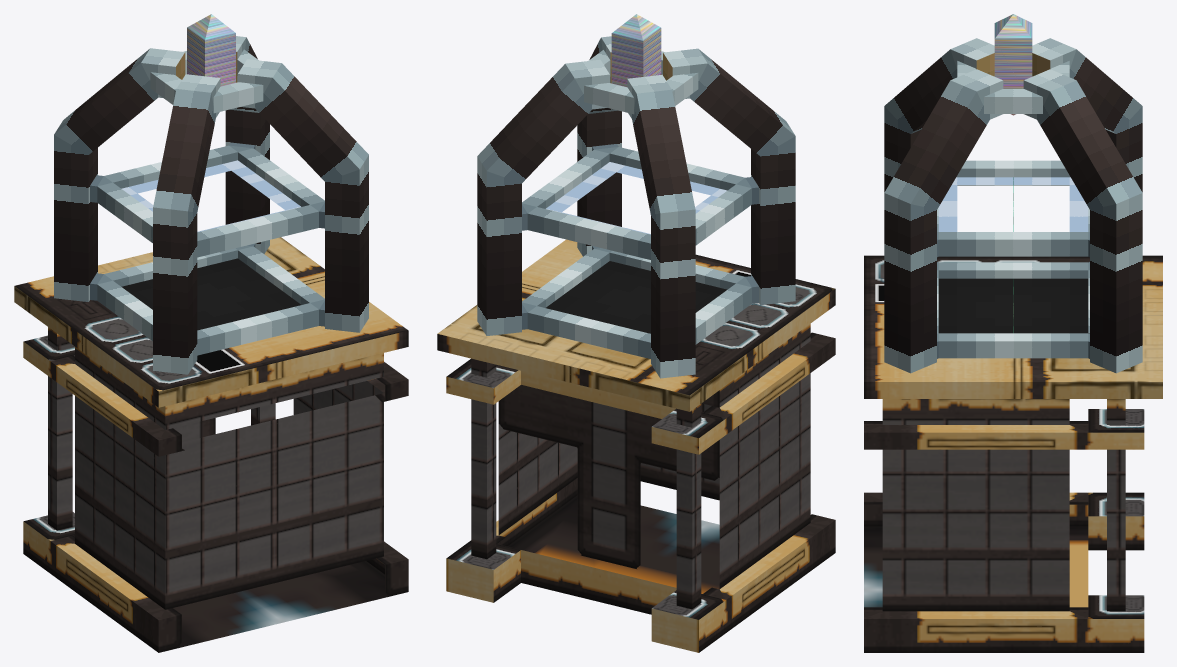
File: station_disenchanter_inventory.obj
The picture shows the model from 3 angles, left to right: view 1: azimuth 30°, elevation 25°; view 2: azimuth 150°, elevation 25°; view 3: azimuth 270°, elevation 25°; orthographic projection. The views are drawn at different scales.
Parts seen in each view (by area): view 1: DESK_SINGLE_MAIN.006, DISENCHANTER_MAIN_Cube.003, DISENCHANTER_CRYSTAL_Cube.010; view 2: DESK_SINGLE_MAIN.006, DISENCHANTER_MAIN_Cube.003, DISENCHANTER_CRYSTAL_Cube.010; view 3: DESK_SINGLE_MAIN.006, DISENCHANTER_MAIN_Cube.003, DISENCHANTER_CRYSTAL_Cube.010.
Part boxes in pixels (left/top/right/bottom): DESK_SINGLE_MAIN.006: left=14, top=237, right=408, bottom=652; DISENCHANTER_MAIN_Cube.003: left=54, top=36, right=368, bottom=374; DISENCHANTER_CRYSTAL_Cube.010: left=187, top=14, right=235, bottom=86; DESK_SINGLE_MAIN.006: left=437, top=239, right=835, bottom=652; DISENCHANTER_MAIN_Cube.003: left=477, top=36, right=795, bottom=378; DISENCHANTER_CRYSTAL_Cube.010: left=611, top=14, right=661, bottom=86; DESK_SINGLE_MAIN.006: left=864, top=255, right=1162, bottom=652; DISENCHANTER_MAIN_Cube.003: left=884, top=38, right=1142, bottom=373; DISENCHANTER_CRYSTAL_Cube.010: left=994, top=14, right=1032, bottom=115.
Size of the model in its own units: 1 by 2.12 by 1.
